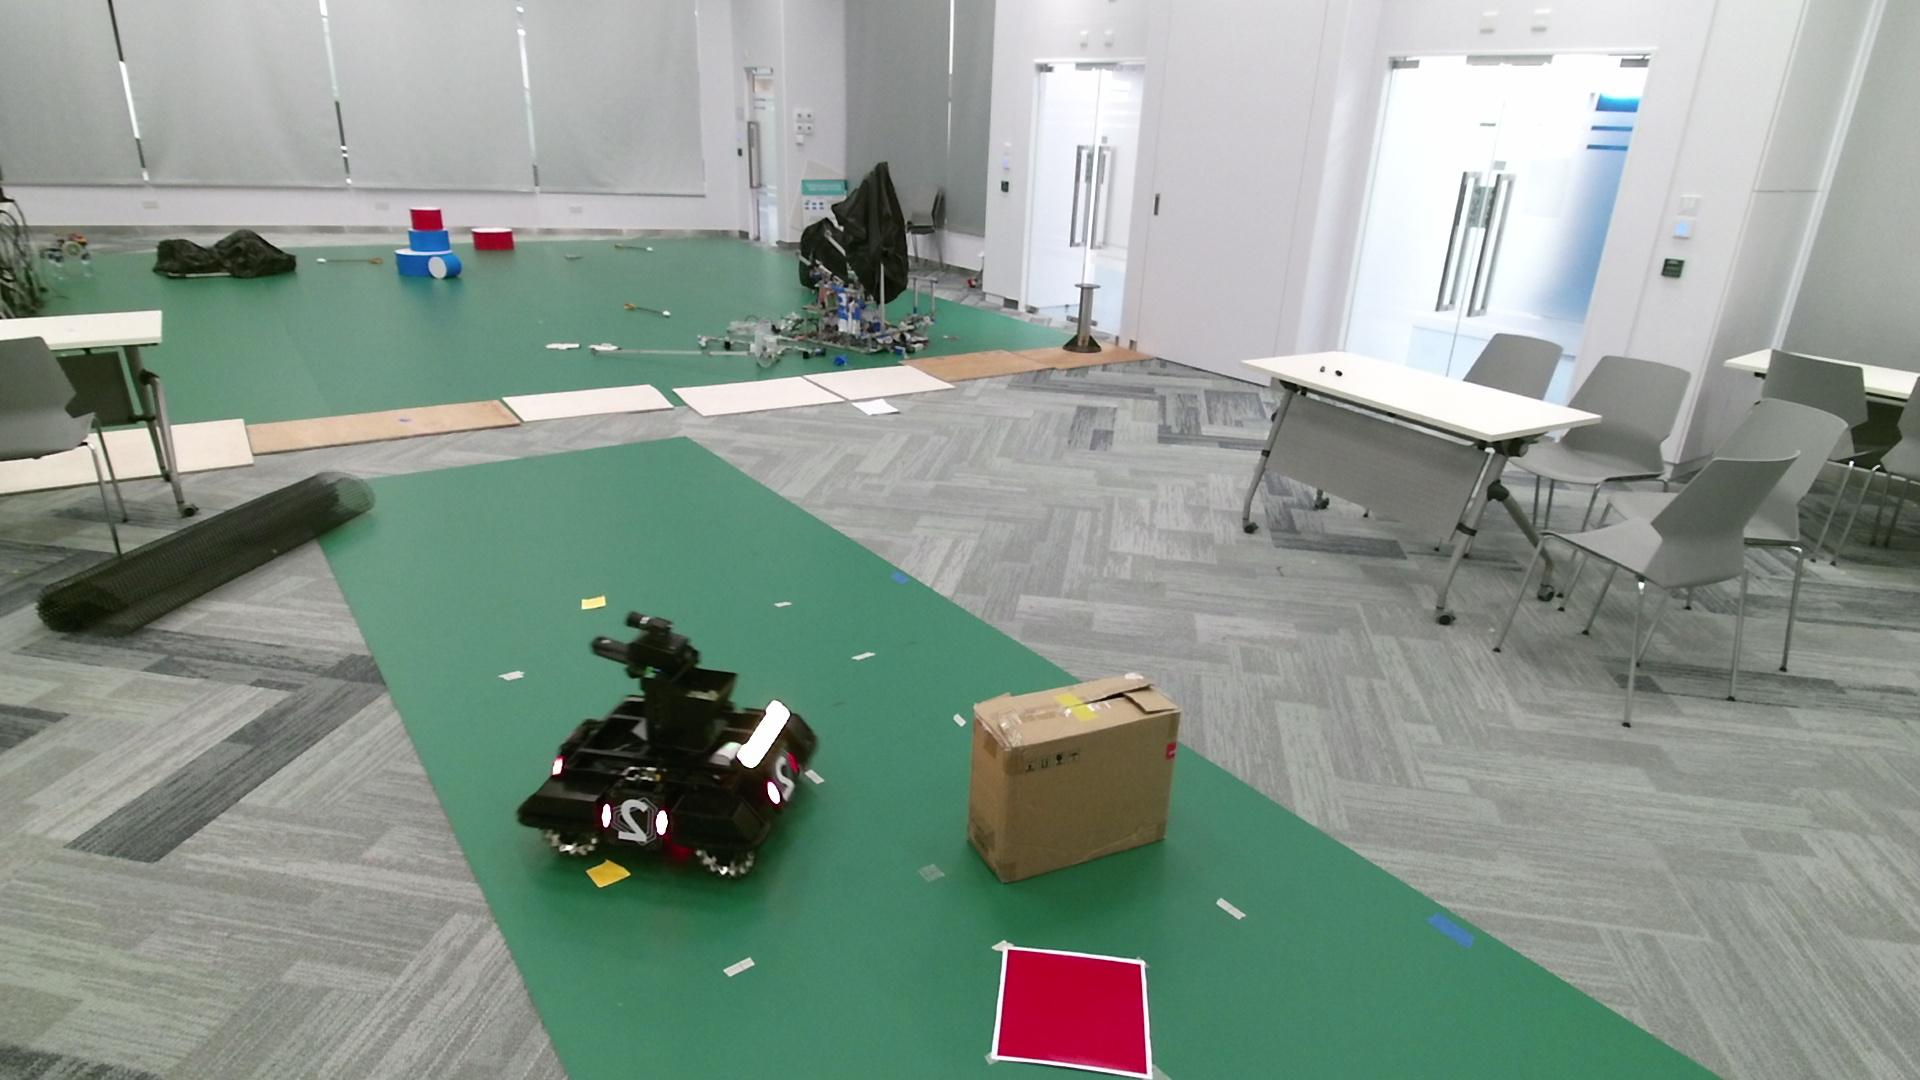robot: (516, 608, 818, 876)
